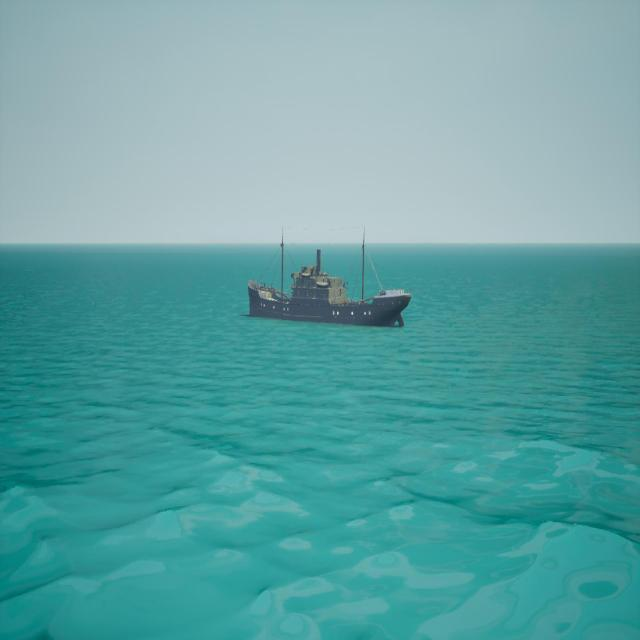fishing ship: (248, 230, 414, 328)
